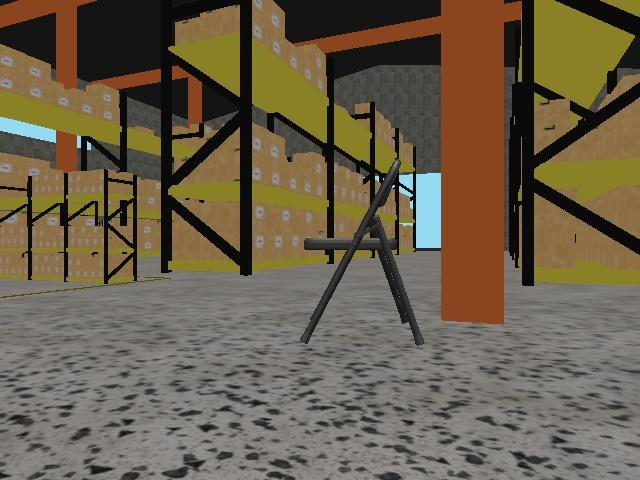chair: (299, 154, 428, 349)
